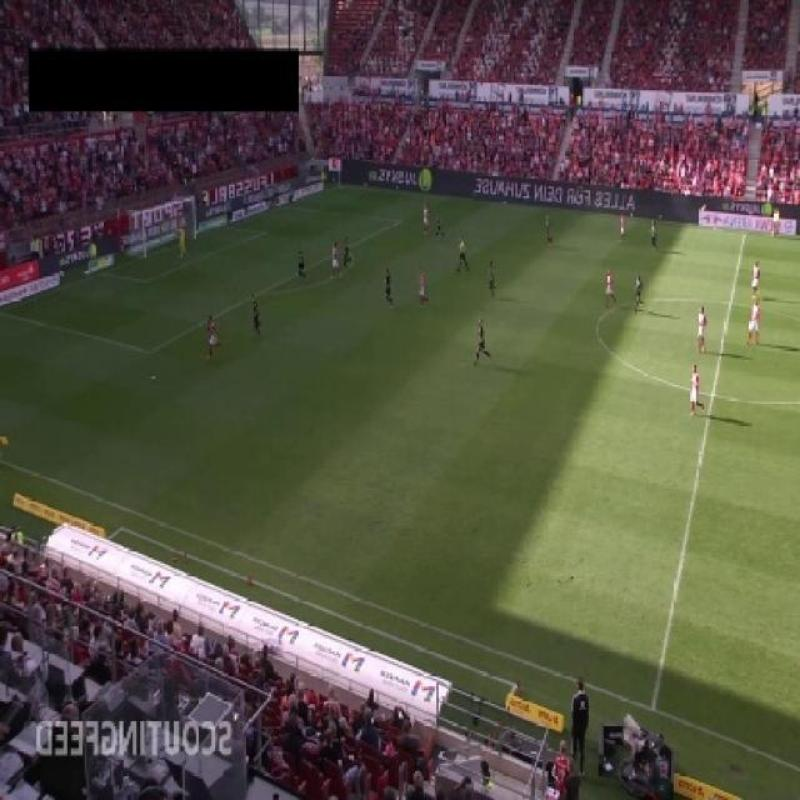1: (329, 174, 350, 190)
10: (336, 245, 348, 256)
11: (255, 280, 276, 300)
12: (142, 338, 162, 362)
13: (734, 220, 756, 245)
14: (724, 286, 744, 314)
15: (704, 377, 728, 408)
16: (636, 692, 670, 722)
2: (275, 197, 293, 215)
3: (219, 220, 235, 232)
4: (90, 262, 108, 280)
7: (256, 224, 272, 241)
8: (138, 270, 156, 290)
9: (390, 210, 410, 229)
c: (588, 312, 614, 343)
